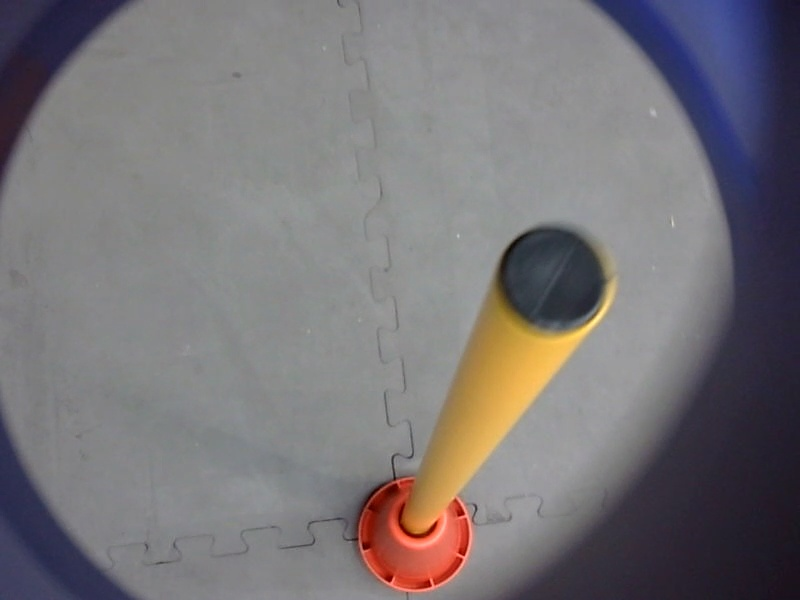tip: (490, 217, 623, 350)
